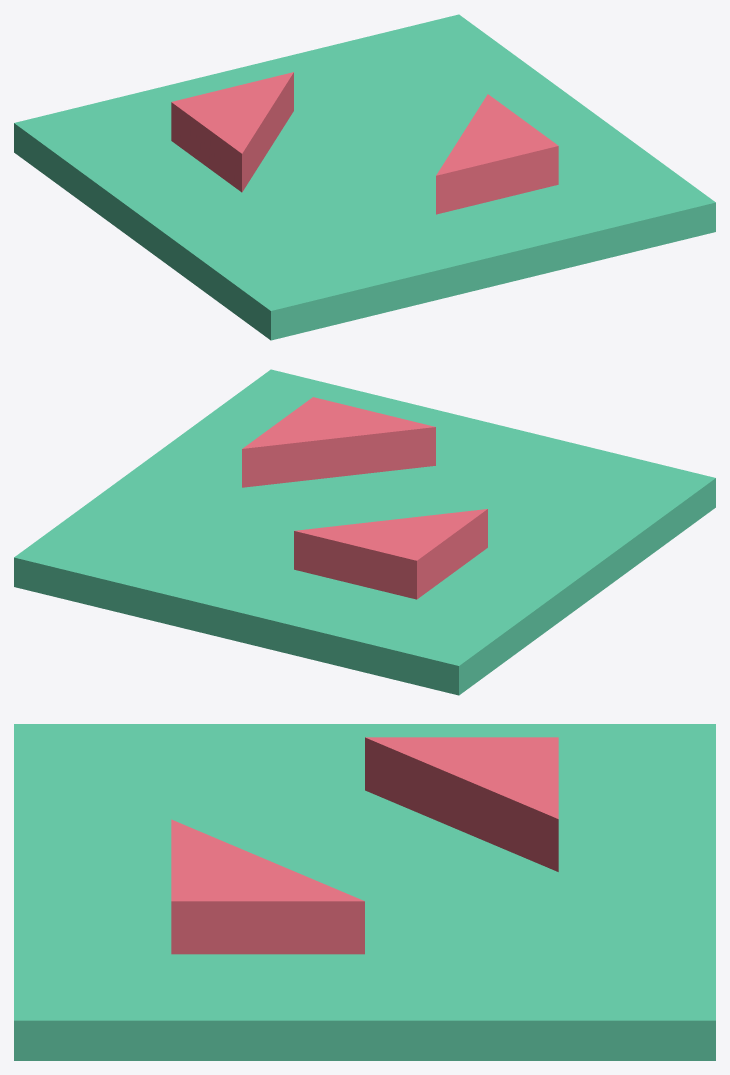
The model's file is obstacleTriangle.glb.
3 renders of one model, top to bottom at view 1: azimuth 30°, elevation 25°; view 2: azimuth 150°, elevation 25°; view 3: azimuth 270°, elevation 25°, orthographic. The views are drawn at different scales.
Visible parts, largest first — view 1: obstacleTriangle; view 2: obstacleTriangle; view 3: obstacleTriangle.
Part boxes in pixels (left/top/right/bottom): obstacleTriangle: left=14, top=14, right=715, bottom=340; obstacleTriangle: left=14, top=369, right=715, bottom=695; obstacleTriangle: left=14, top=724, right=715, bottom=1060.
Size of the model in its own units: 0.9999 by 0.1467 by 0.9999.
